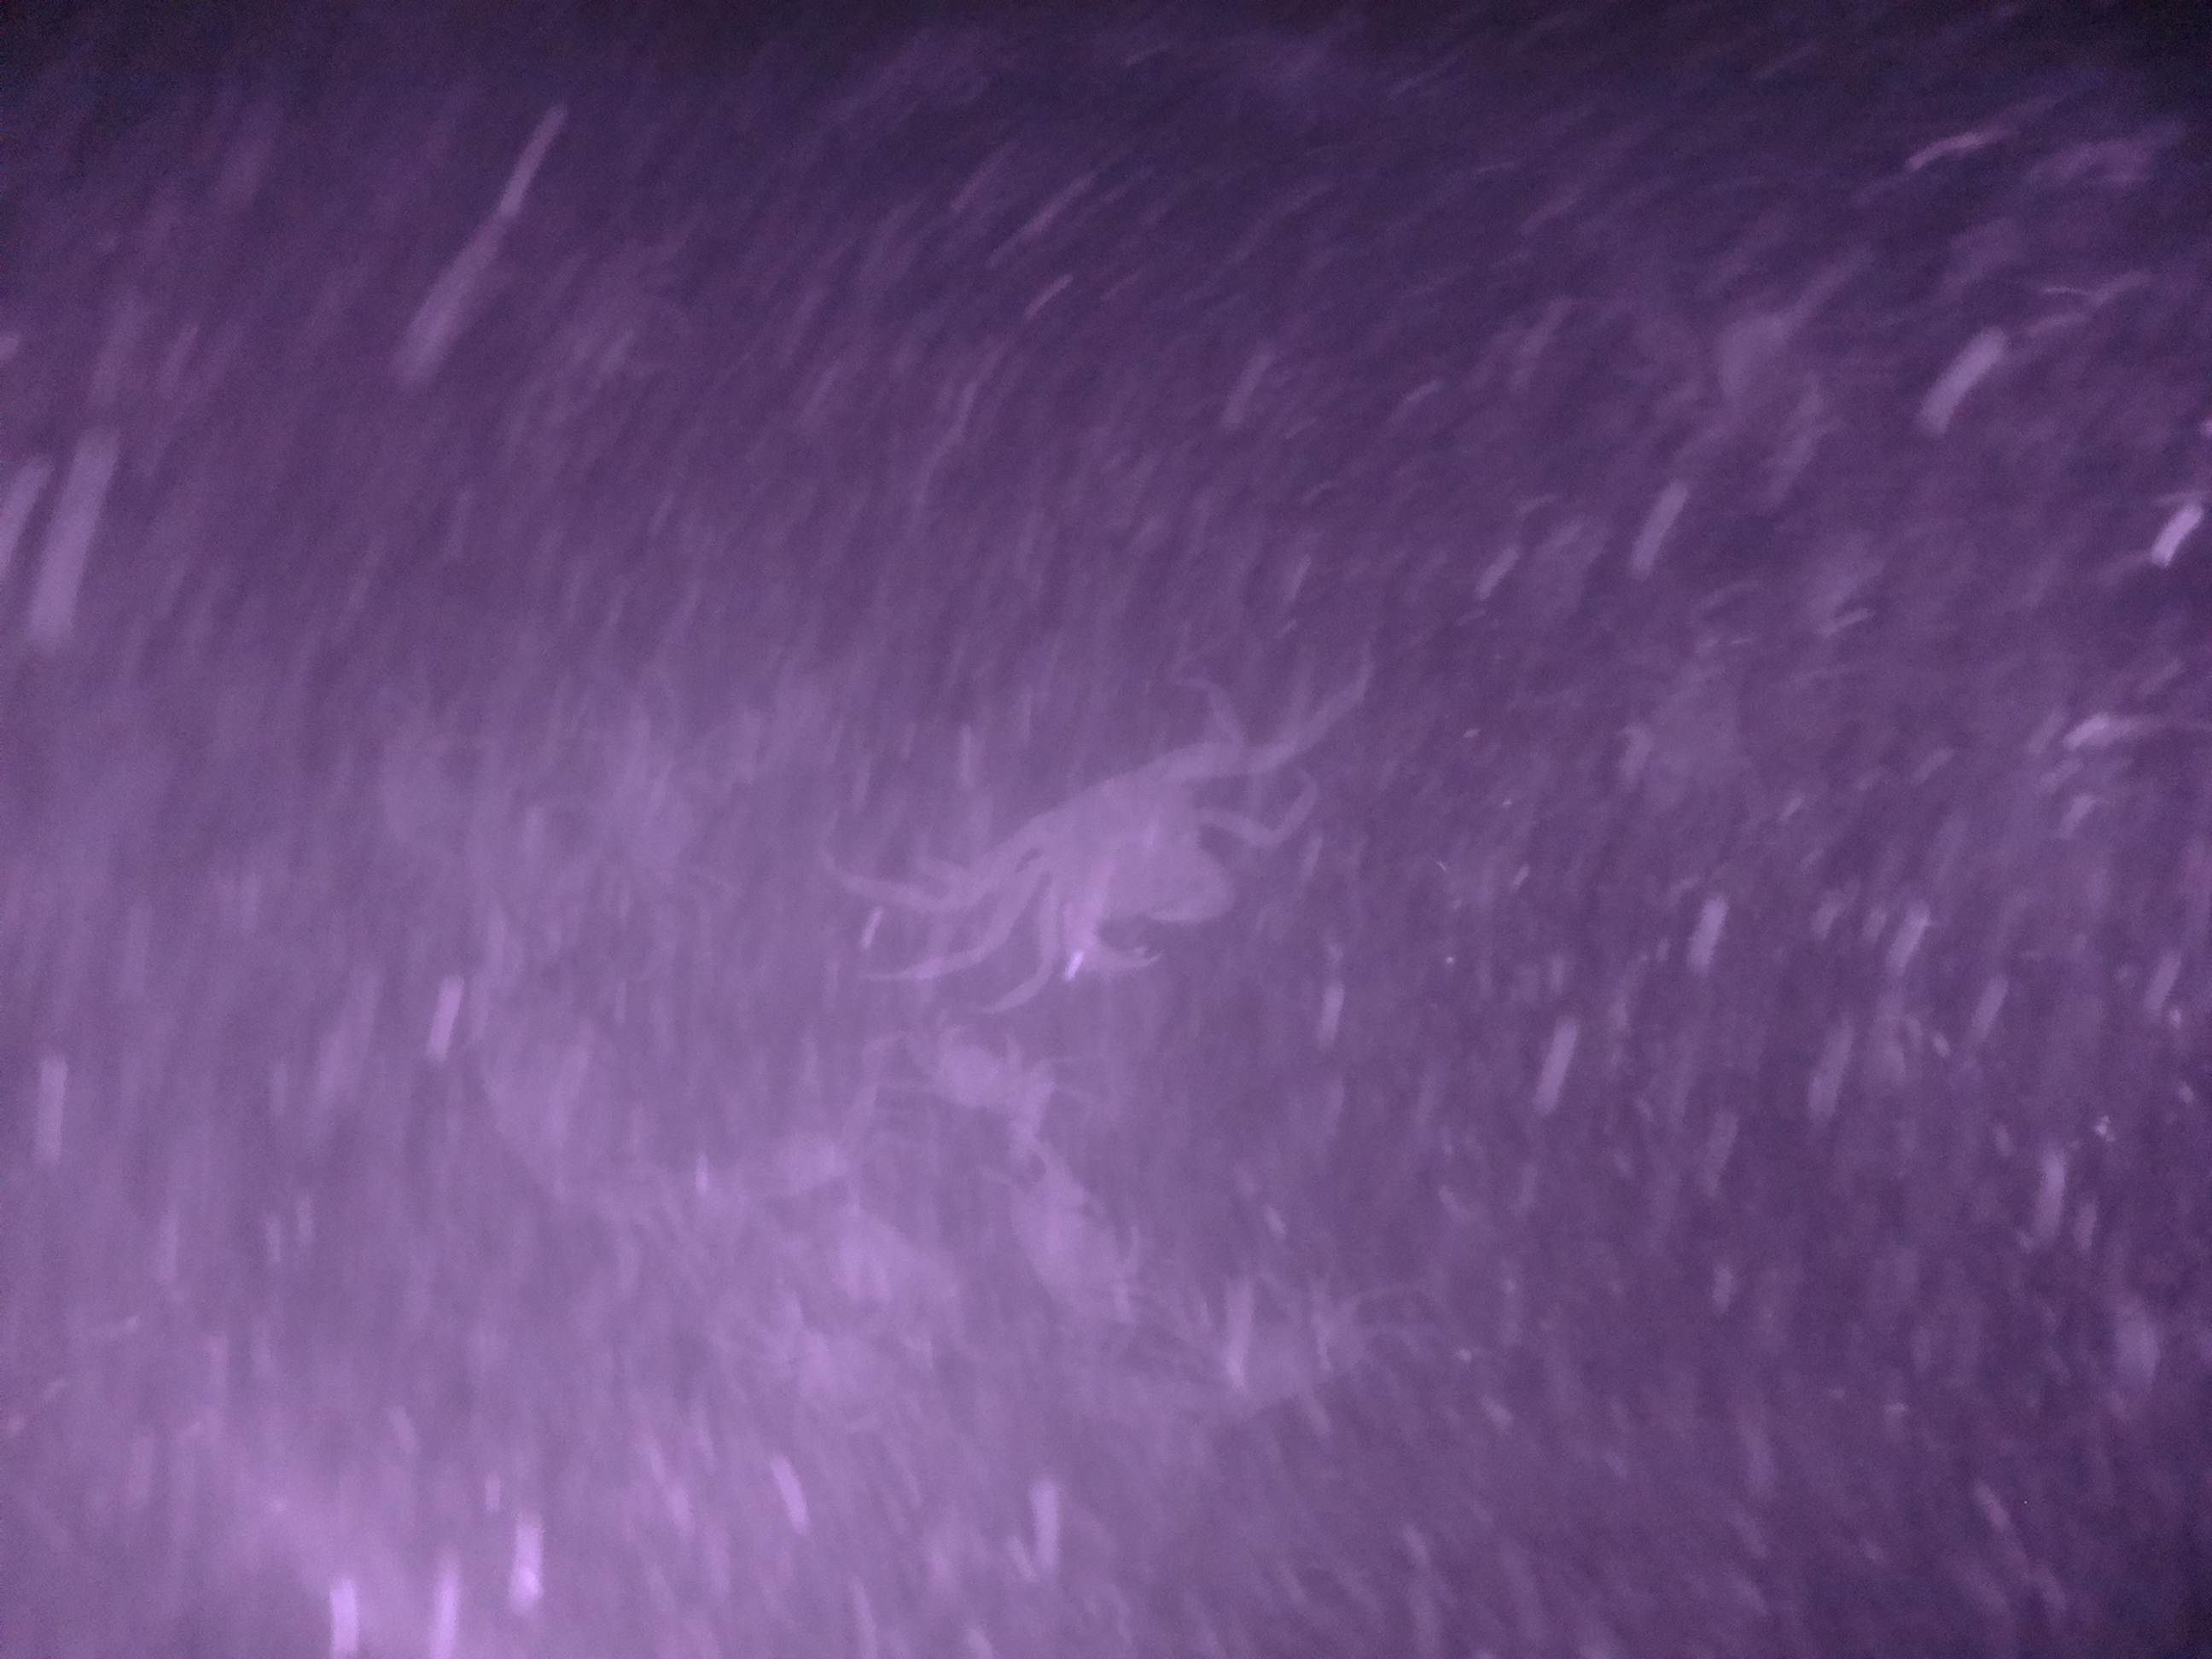Crab: (993, 727, 1259, 999)
